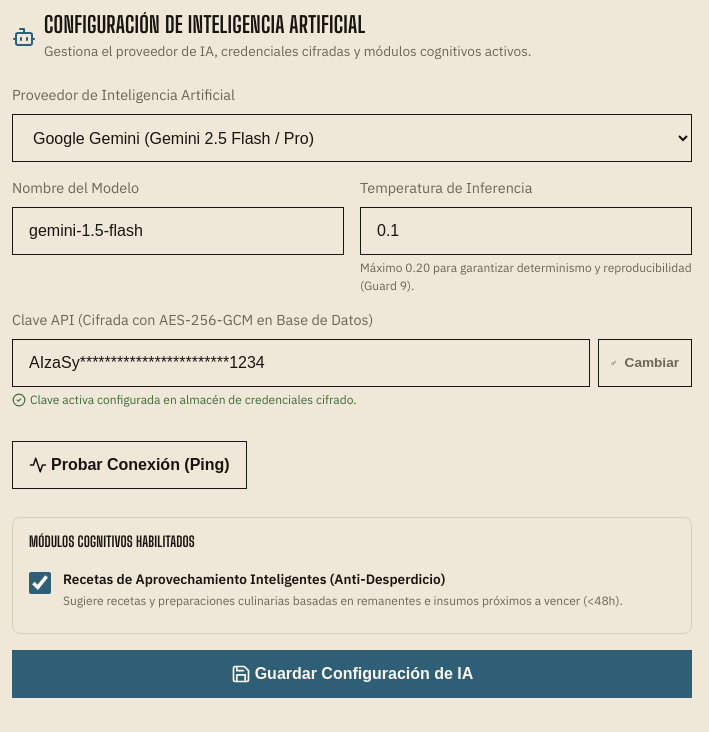
TK-123-FE: AiSettingsSection Component Suite › permite cambiar a proveedor OPENAI_COMPATIBLE y muestra campo de endpoint
Expected: the field showing "gemini-1.5-flash" is shown, x1=12 y1=207 x2=344 y2=255
Select "Compatible OpenAI / Servidor Local (Ollama, LM Studio)" in the dropdown labelled "Proveedor de Inteligencia Artificial" at [352, 138], box x1=12 y1=114 x2=692 y2=162
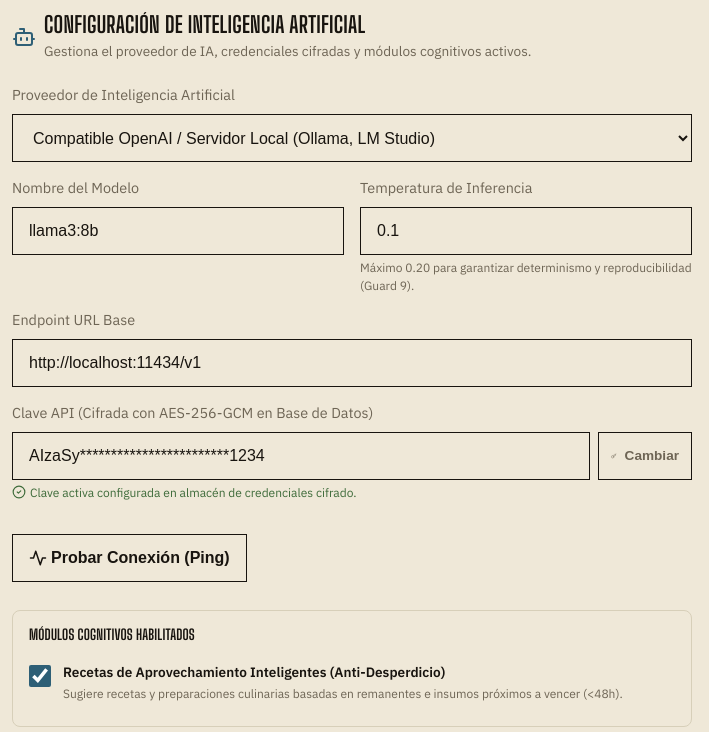
Expected: the field showing "llama3:8b" is shown, x1=12 y1=207 x2=344 y2=255
Expected: the field labelled "Endpoint URL Base" is shown, x1=12 y1=339 x2=692 y2=387
